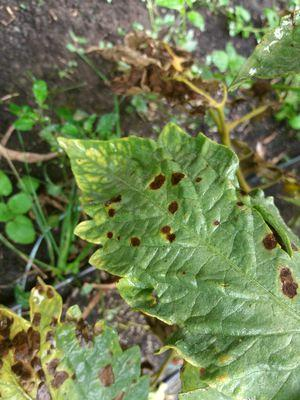Tomato Early blight leaf: (55, 140, 299, 387)
